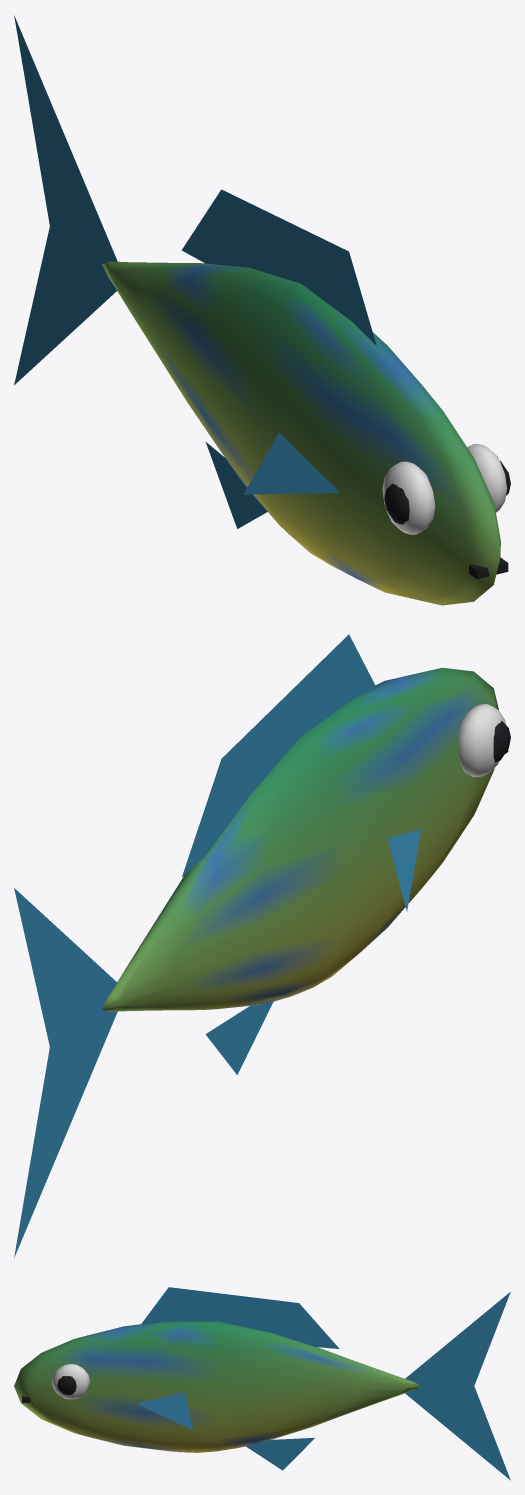
The model's file is goldmakrele.glb.
The picture shows the model from 3 angles, top to bottom: view 1: azimuth 30°, elevation 25°; view 2: azimuth 150°, elevation 25°; view 3: azimuth 270°, elevation 25°; orthographic projection. The views are drawn at different scales.
Visible parts, largest first — view 1: goldmakrele; view 2: goldmakrele; view 3: goldmakrele.
Boxes of the visible parts, left/top/right/bottom form: goldmakrele: left=14, top=15, right=510, bottom=605; goldmakrele: left=14, top=634, right=510, bottom=1257; goldmakrele: left=14, top=1287, right=510, bottom=1480.
Size of the model in its own units: 0.237 by 0.5247 by 1.22.
